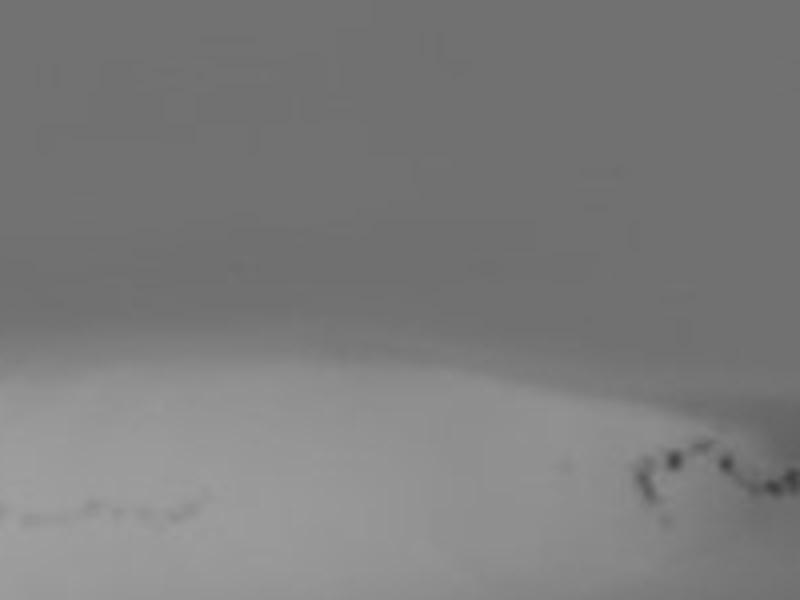defect: (634, 457, 667, 504), (83, 500, 101, 525), (666, 449, 688, 469), (690, 435, 715, 452), (763, 480, 787, 496), (718, 454, 736, 472), (786, 471, 800, 492), (112, 506, 128, 523), (188, 503, 203, 520), (171, 510, 185, 526)
